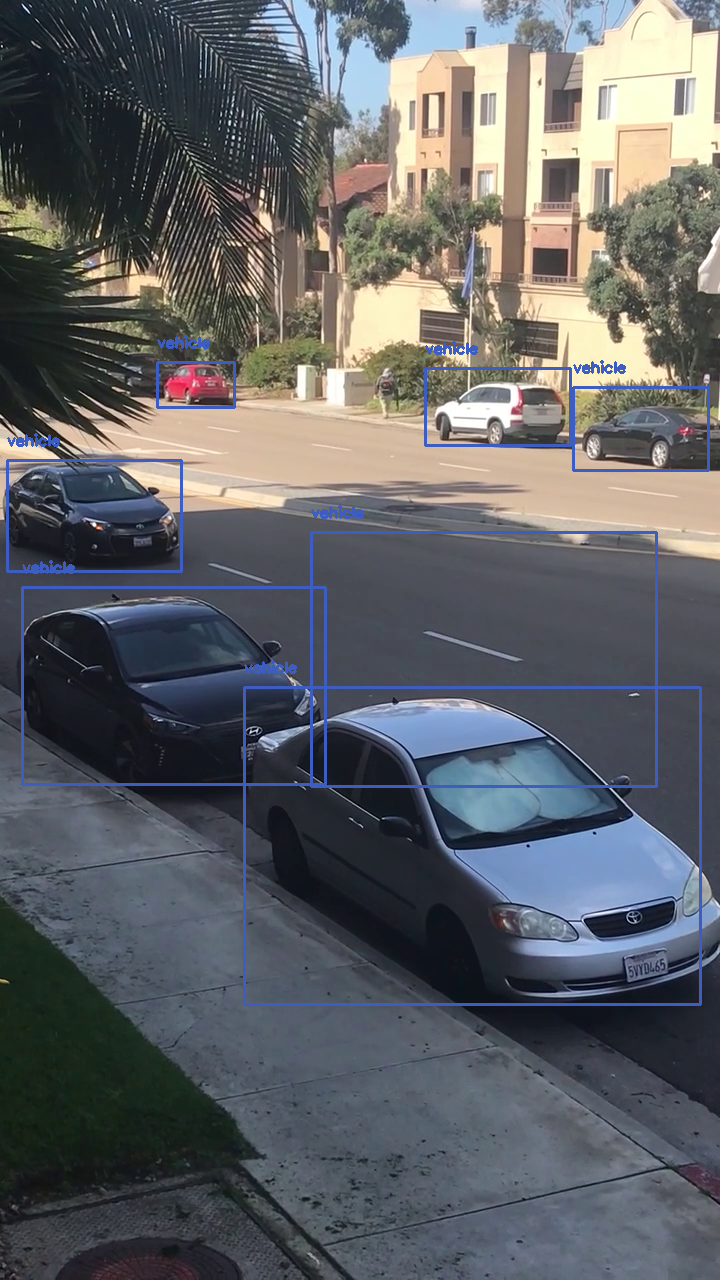vehicle: (244, 687, 700, 1004), (311, 532, 656, 786), (22, 587, 325, 784), (7, 460, 181, 571), (573, 387, 708, 470), (425, 368, 570, 445), (157, 362, 234, 407)
